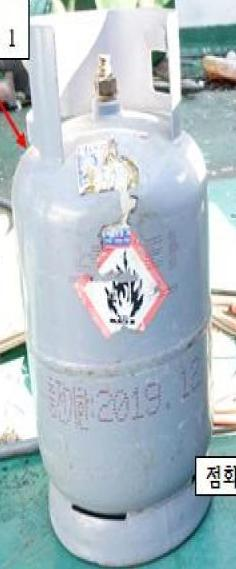cylinder: (1, 1, 236, 569)
